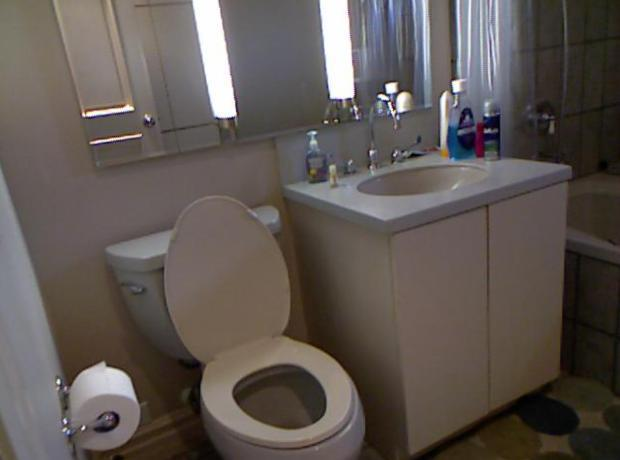Lavamanos: (344, 79, 491, 217)
Sanitario: (102, 197, 370, 454)
